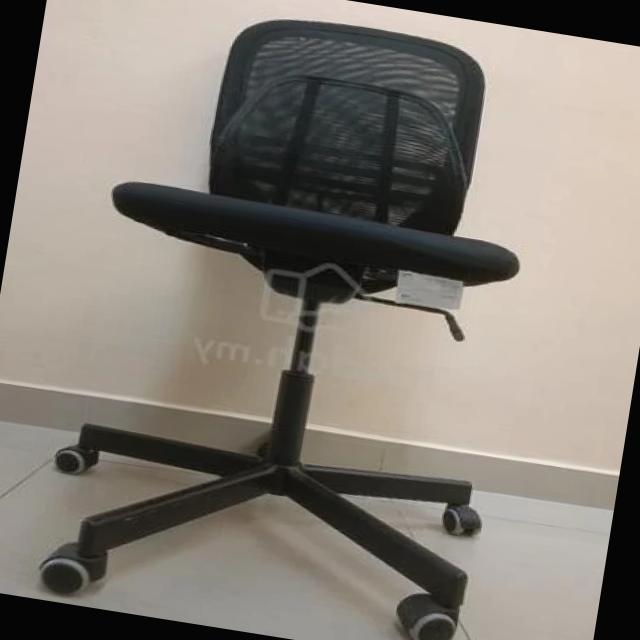Chair: (4, 6, 555, 640)
